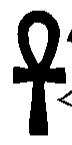Ankh: (8, 7, 69, 137)
